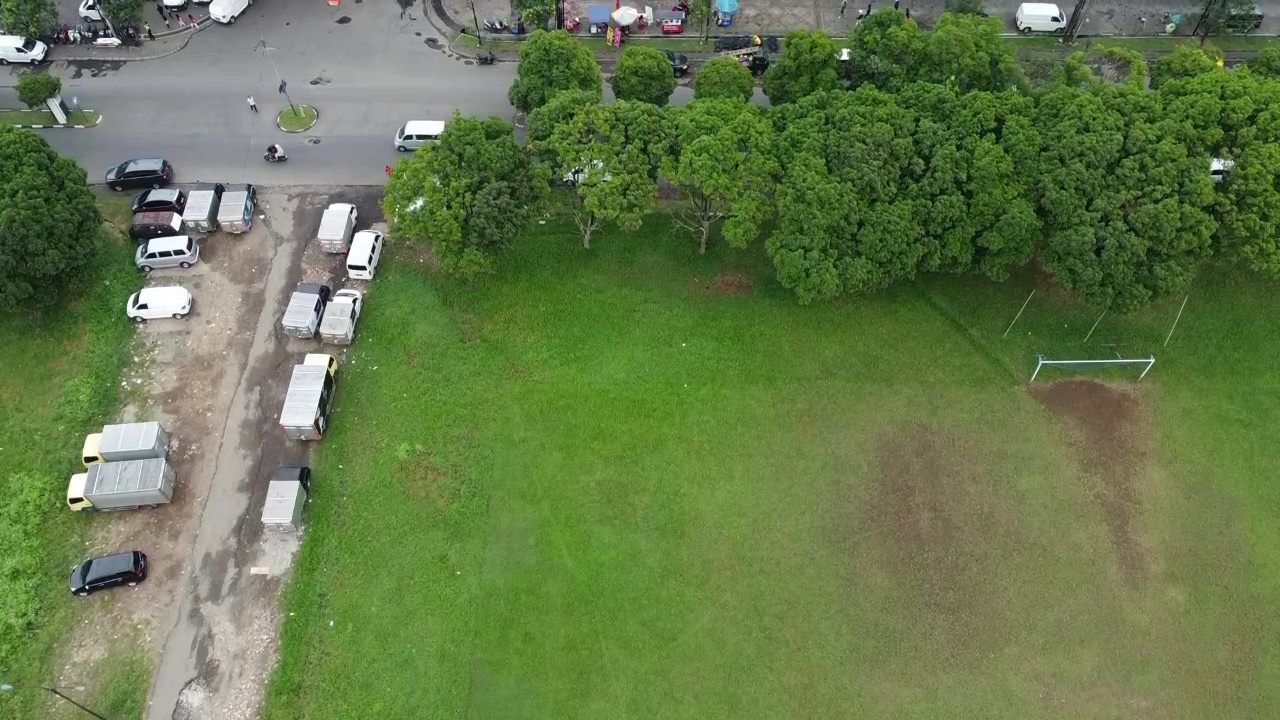mobil: (64, 550, 151, 598), (386, 115, 456, 158), (122, 283, 194, 324), (105, 153, 177, 193), (343, 224, 389, 281), (134, 235, 199, 273), (1012, 3, 1075, 42), (129, 183, 186, 215), (127, 206, 185, 237), (1, 32, 52, 64), (656, 44, 698, 78)
